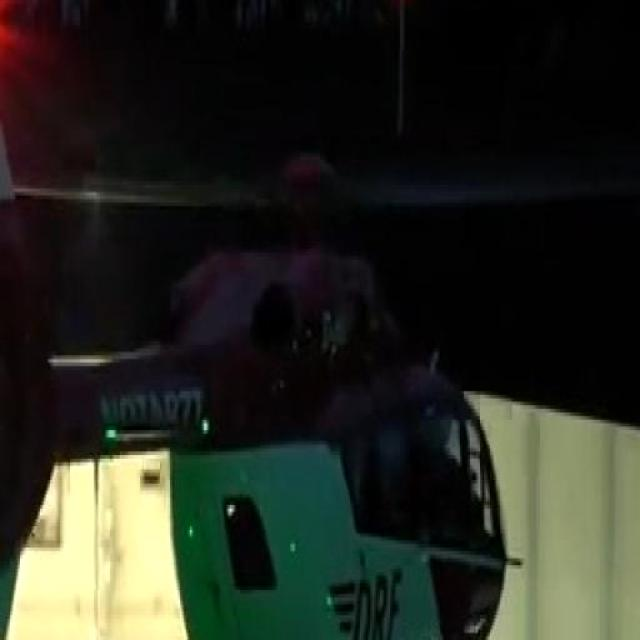drone: (0, 0, 521, 640)
